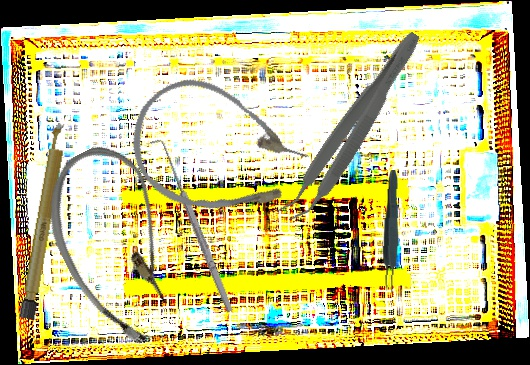Cannula: (24, 133, 210, 357), (114, 62, 322, 242)
Hook Surgical: (149, 135, 236, 317)
Scalpel Handle: (18, 122, 70, 320)
Tissue Forceps: (273, 21, 429, 231), (380, 169, 402, 295)
